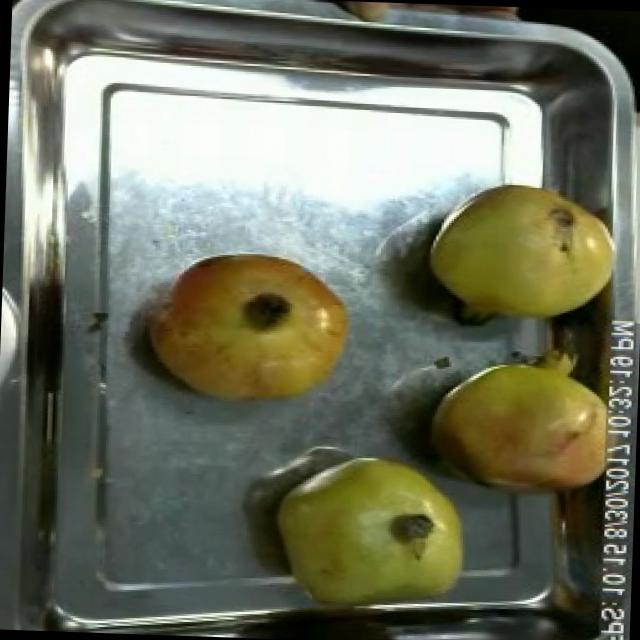fruit: (135, 240, 365, 418), (260, 442, 480, 624), (412, 334, 632, 511), (414, 172, 625, 331), (310, 0, 423, 29)
